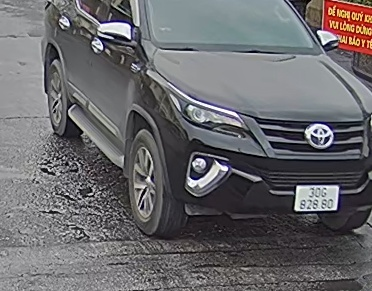vehicle plate: (288, 183, 341, 214)
